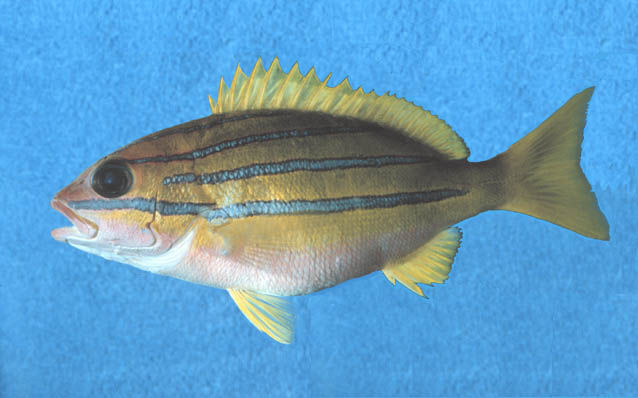fish: (49, 56, 611, 346)
